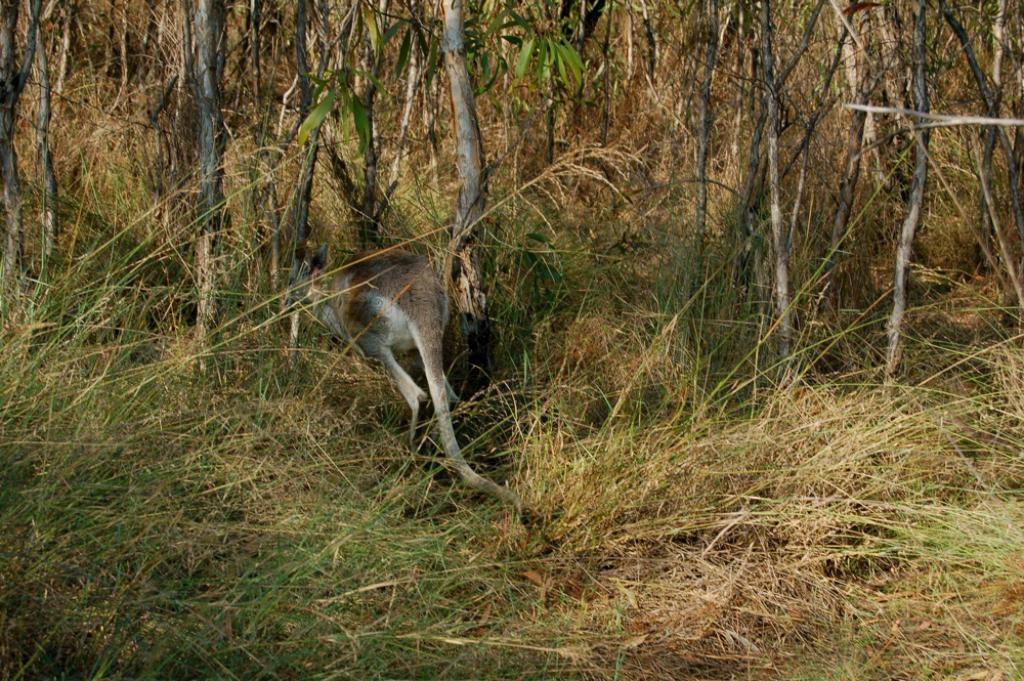kangaroo: (304, 202, 532, 511)
